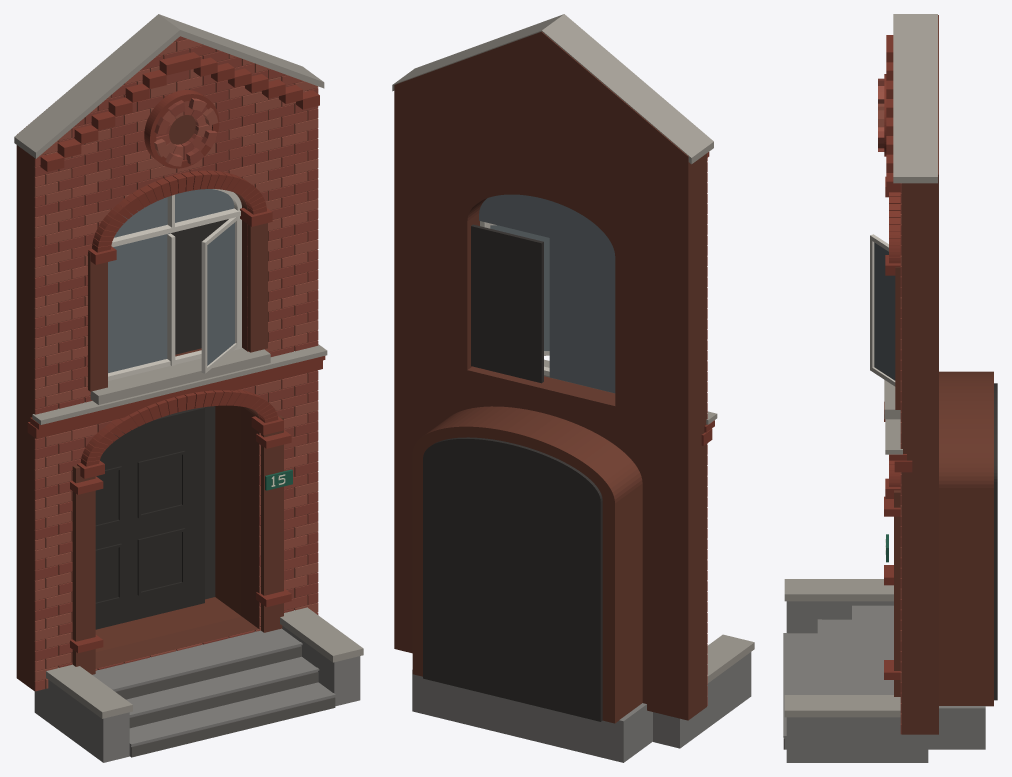
Rendered from hongkou-changyang-lane50-no15-brick-gable-raw.glb.
3 renders of one model, left to right at view 1: azimuth 30°, elevation 25°; view 2: azimuth 150°, elevation 25°; view 3: azimuth 270°, elevation 25°, orthographic. The views are drawn at different scales.
Visible parts, largest first — view 1: 长阳路50弄15号圆饰山墙与双层砖券门面; view 2: 长阳路50弄15号圆饰山墙与双层砖券门面; view 3: 长阳路50弄15号圆饰山墙与双层砖券门面.
Part boxes in pixels (x1,y1,x2,y2): 长阳路50弄15号圆饰山墙与双层砖券门面: (14,14,363,762); 长阳路50弄15号圆饰山墙与双层砖券门面: (392,14,754,762); 长阳路50弄15号圆饰山墙与双层砖券门面: (783,14,997,762).
Bounding box in the file's own units: 3.2 × 7.04 × 2.
